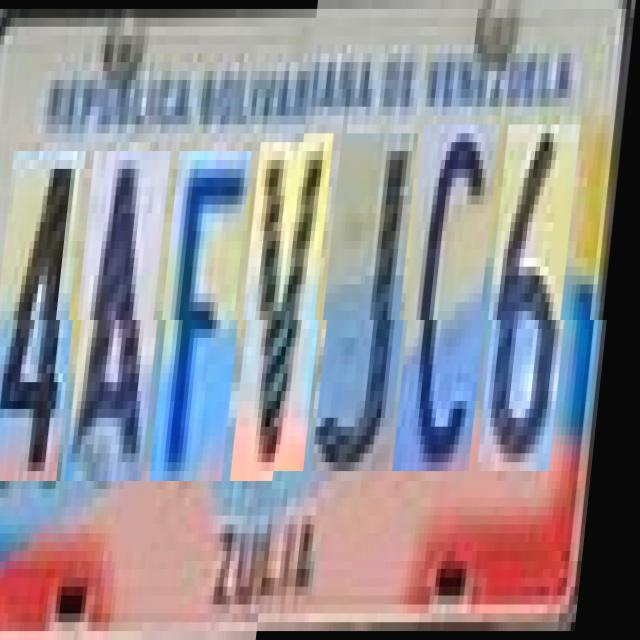4: (0, 151, 94, 480)
6: (486, 133, 586, 480)
A: (75, 151, 178, 480)
C: (402, 133, 506, 480)
F: (160, 151, 258, 480)
J: (321, 142, 425, 480)
V: (240, 142, 340, 480)
